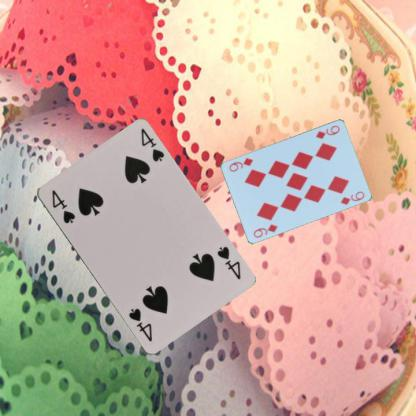4s: (214, 243, 242, 281), (49, 188, 76, 226)
9d: (313, 122, 341, 140), (251, 221, 279, 239)
